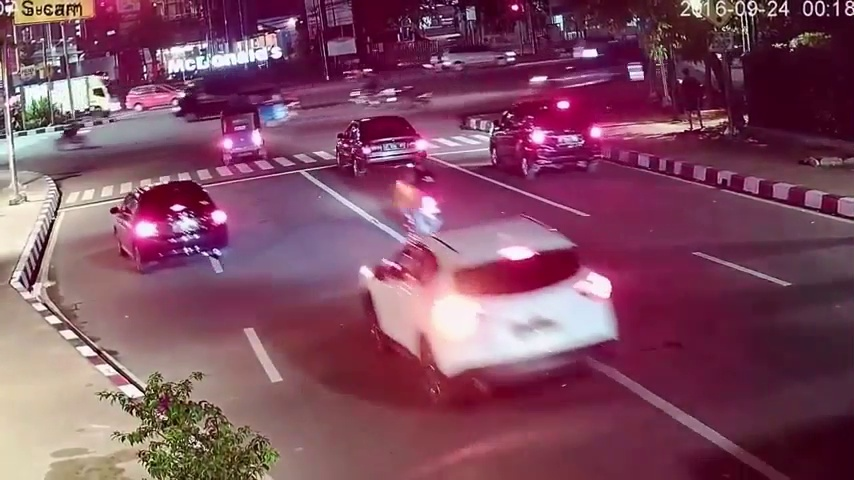car: (359, 214, 624, 406), (111, 181, 233, 273), (489, 103, 600, 183), (335, 114, 426, 186), (220, 107, 266, 164)
motorbike: (394, 153, 441, 240)
